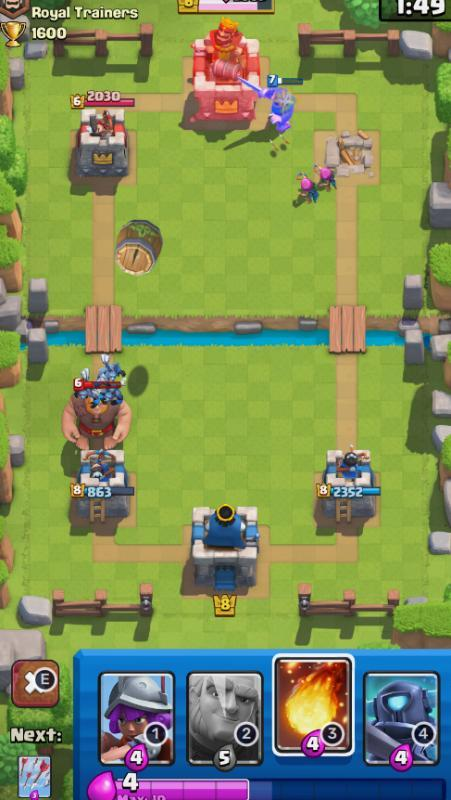enemy_giant: (58, 382, 134, 451)
enemy_goblin_barrel: (108, 213, 169, 278)
player_archers: (289, 166, 322, 208), (314, 159, 340, 192)
player_knight: (242, 70, 311, 145)
player_minions: (93, 354, 124, 381), (101, 386, 125, 405), (76, 386, 99, 402)
